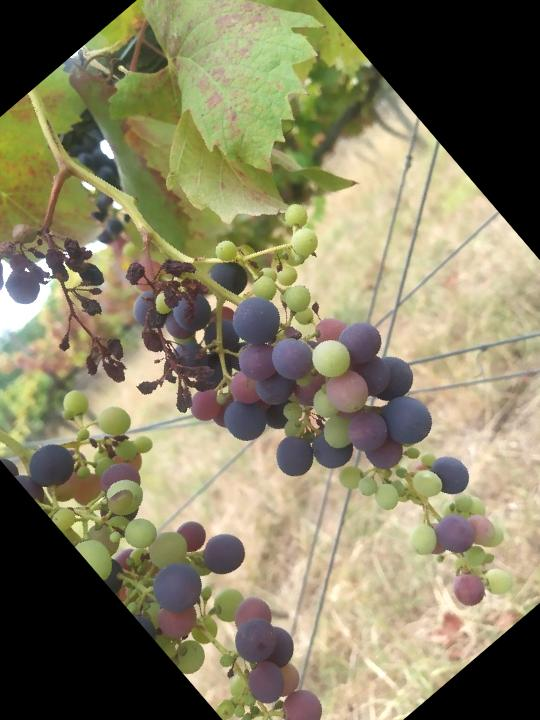grape: (73, 152, 540, 692), (0, 188, 177, 419)
